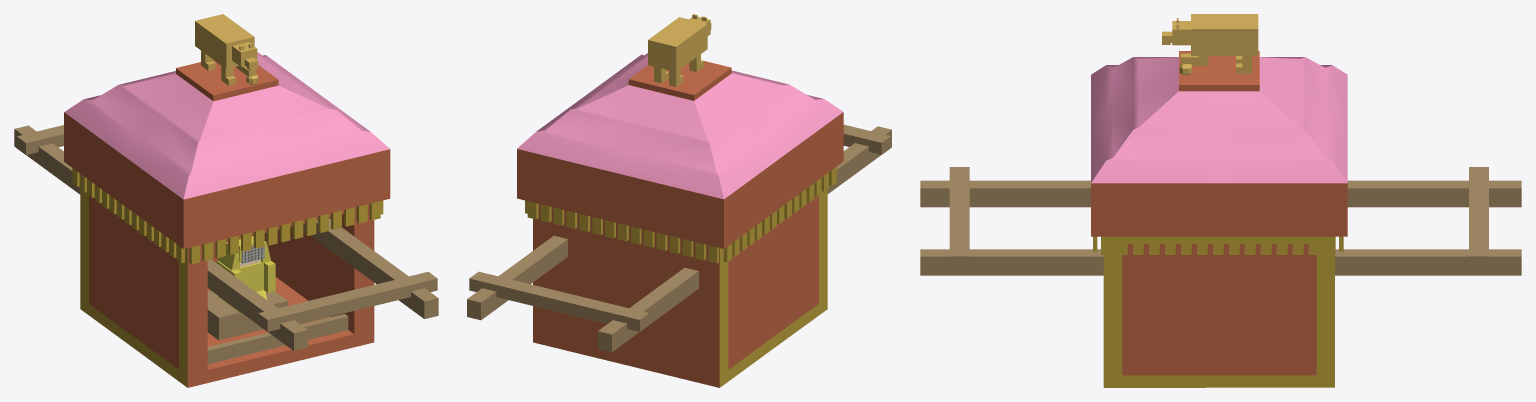
File: masu_car_tiger.fbx
The picture shows the model from 3 angles, left to right: view 1: azimuth 30°, elevation 25°; view 2: azimuth 150°, elevation 25°; view 3: azimuth 270°, elevation 25°; orthographic projection. The views are drawn at different scales.
Visible parts, largest first — view 1: masu_car1_tiger; view 2: masu_car1_tiger; view 3: masu_car1_tiger.
Part boxes in pixels (bbox=[...]): masu_car1_tiger: bbox=[14, 14, 438, 387]; masu_car1_tiger: bbox=[467, 14, 891, 387]; masu_car1_tiger: bbox=[920, 14, 1521, 387].
Size of the model in its own units: 8.68 by 11.84 by 20.32.
